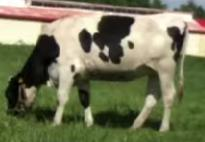cow: (4, 13, 188, 133)
